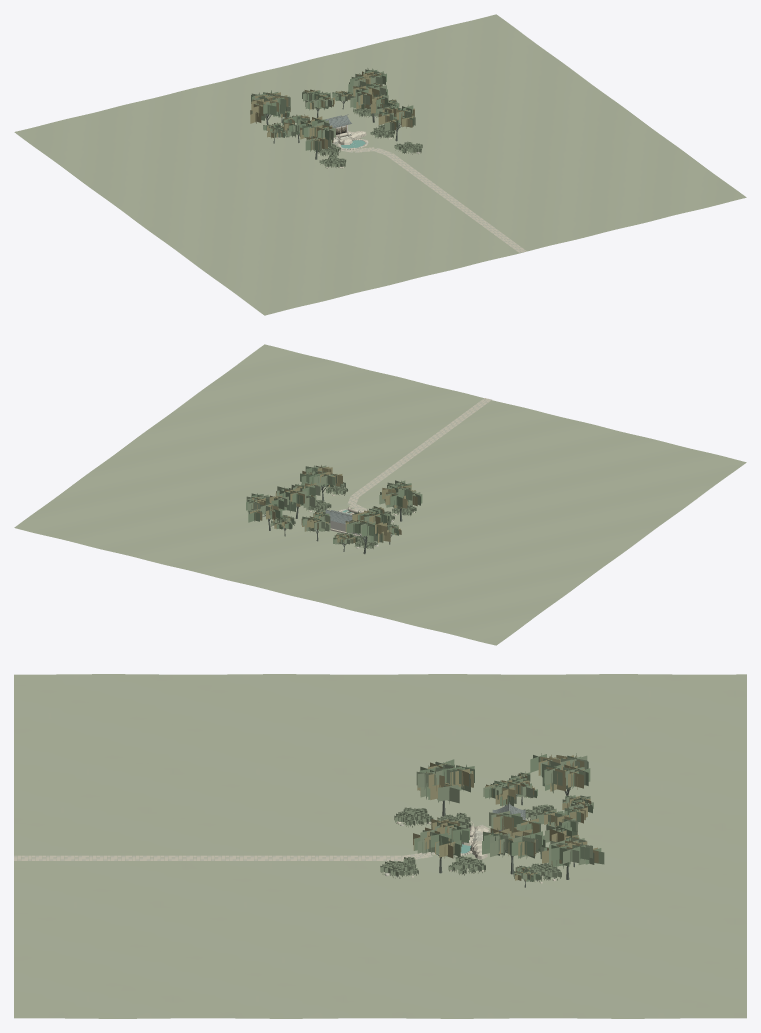
File: tiger-spring.glb
The picture shows the model from 3 angles, top to bottom: view 1: azimuth 30°, elevation 25°; view 2: azimuth 150°, elevation 25°; view 3: azimuth 270°, elevation 25°; orthographic projection. The views are drawn at different scales.
Visible parts, largest first — view 1: earth, crown1, crown2, crown0, stone, stone2; view 2: earth, crown1, crown0, crown2, stone, stone2; view 3: earth, crown1, crown0, crown2, stone, stone2.
Part boxes in pixels (x1,y1,x2,y2): earth: [14, 14, 746, 315]; crown1: [251, 68, 422, 166]; crown2: [250, 71, 414, 150]; crown0: [251, 68, 413, 151]; stone: [326, 131, 526, 252]; stone2: [276, 116, 524, 252]; earth: [14, 344, 746, 645]; crown1: [246, 465, 420, 548]; crown0: [246, 465, 422, 543]; crown2: [250, 465, 418, 544]; stone: [272, 398, 490, 548]; stone2: [338, 399, 491, 548]; earth: [14, 674, 746, 1018]; crown1: [380, 755, 594, 880]; crown0: [414, 753, 604, 881]; crown2: [413, 754, 598, 880]; stone: [14, 820, 555, 883]; stone2: [14, 824, 483, 876].
Bounding box in the file's own units: 250 × 17.88 × 225.
